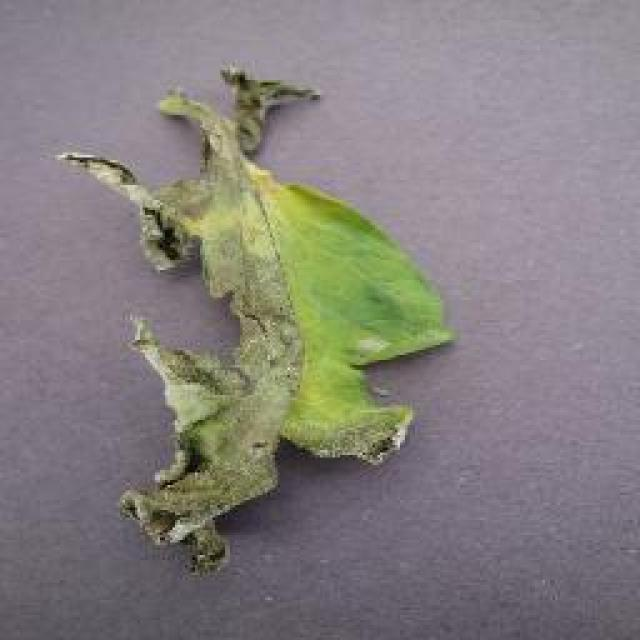Tomato Late Blight: (47, 60, 318, 547)
